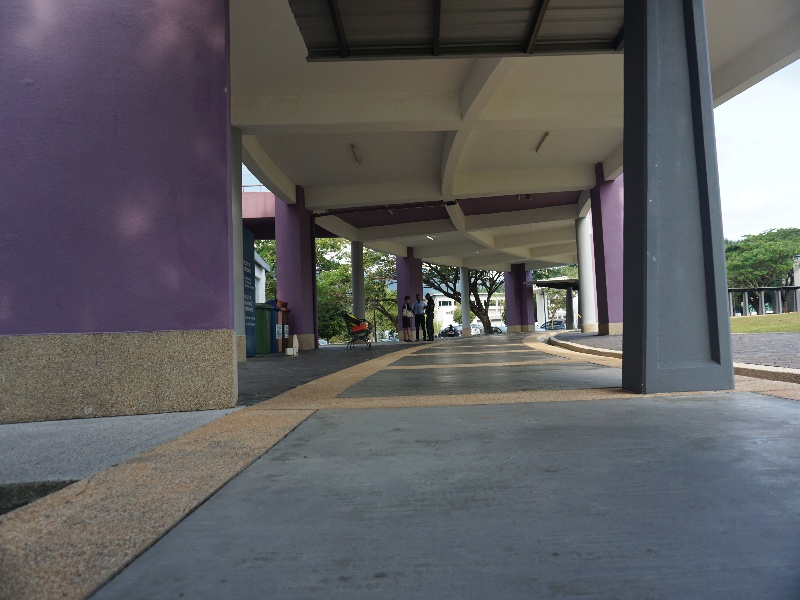pillar: (1, 3, 248, 421), (615, 5, 739, 404)
